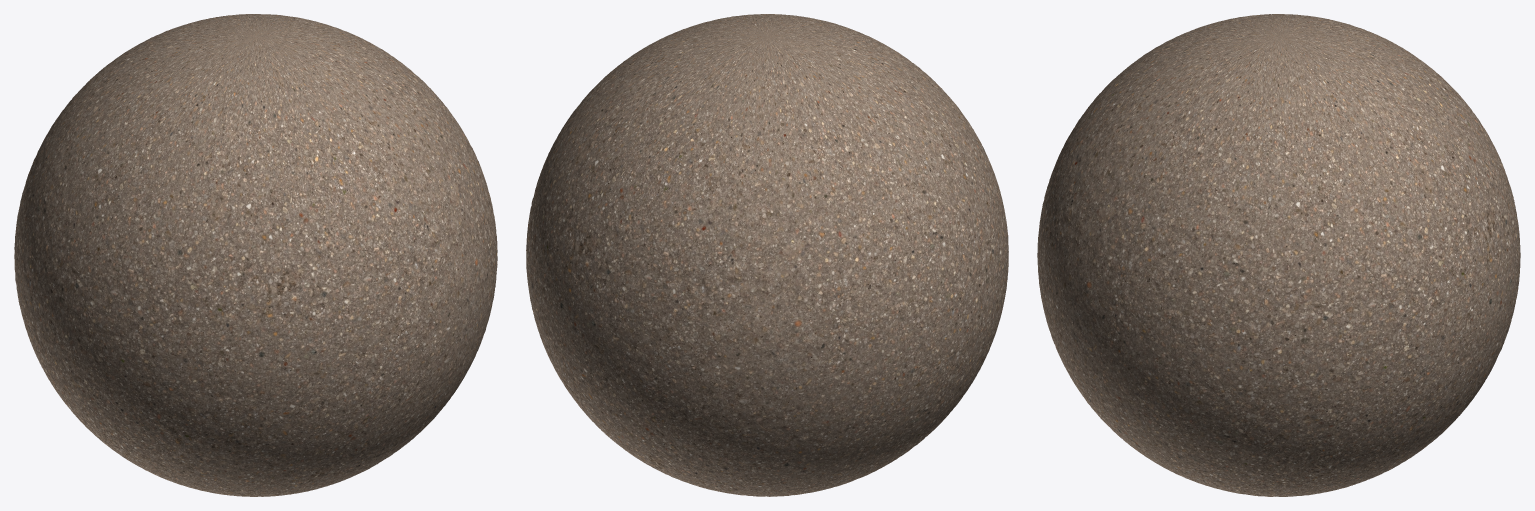
The model's file is asphalt_floor_1k.gltf.
3 renders of one model, left to right at view 1: azimuth 30°, elevation 25°; view 2: azimuth 150°, elevation 25°; view 3: azimuth 270°, elevation 25°, orthographic.
Parts seen in each view (by area): view 1: sphere_gltf; view 2: sphere_gltf; view 3: sphere_gltf.
Part boxes in pixels (left/top/right/bottom): sphere_gltf: left=14, top=14, right=497, bottom=496; sphere_gltf: left=526, top=14, right=1008, bottom=496; sphere_gltf: left=1037, top=14, right=1520, bottom=496.
Size of the model in its own units: 2.36 by 2.36 by 2.36.
1 material, 1 textured.
